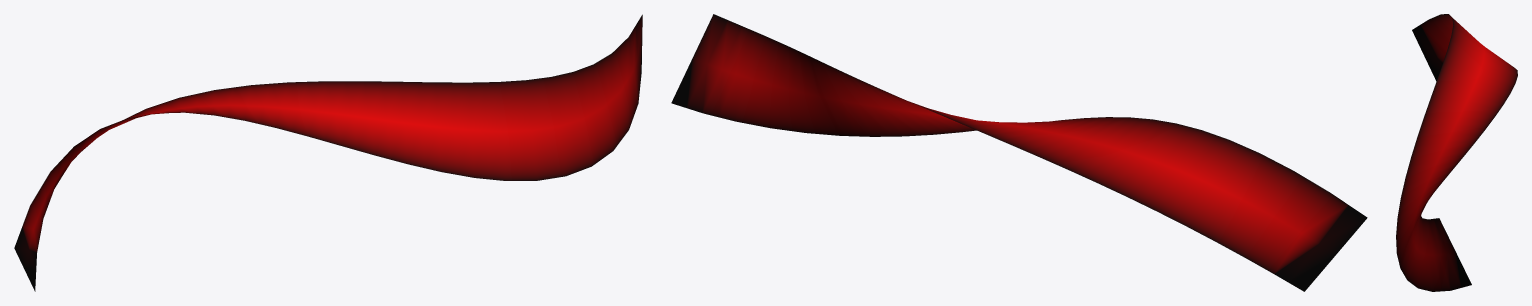
The model's file is Smoke_Form_01.fbx.
3 renders of one model, left to right at view 1: azimuth 30°, elevation 25°; view 2: azimuth 150°, elevation 25°; view 3: azimuth 270°, elevation 25°, orthographic. The views are drawn at different scales.
Visible parts, largest first — view 1: BezierCurve.001; view 2: BezierCurve.001; view 3: BezierCurve.001.
Part boxes in pixels (box(x1,y1,x2,y2)): BezierCurve.001: box(14, 14, 642, 291); BezierCurve.001: box(671, 14, 1367, 291); BezierCurve.001: box(1396, 14, 1517, 291).
Size of the model in its own units: 10086 by 2094 by 2145.
